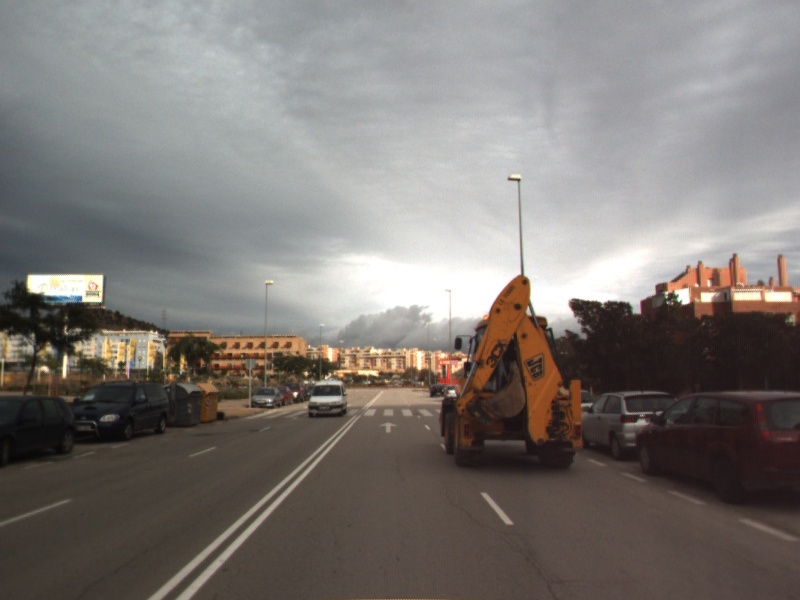STRAIGHT: (378, 420, 400, 434)
